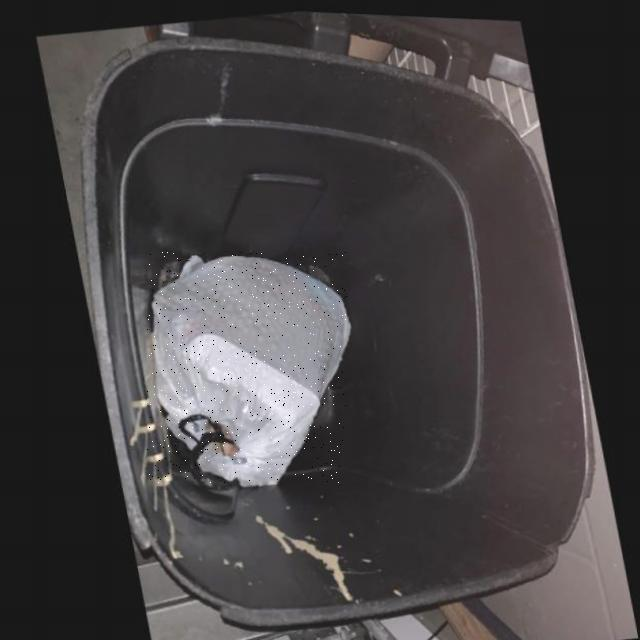plastic: (147, 253, 347, 483)
